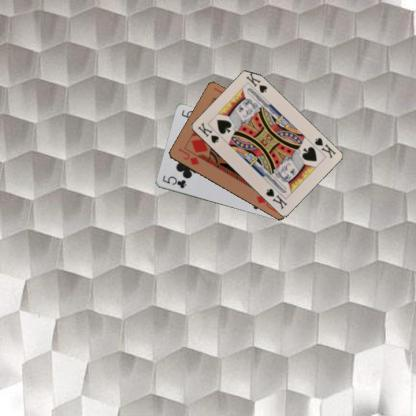5c: (160, 172, 187, 190)
Jd: (176, 146, 200, 166)
Ks: (194, 119, 220, 144), (311, 135, 337, 160)
